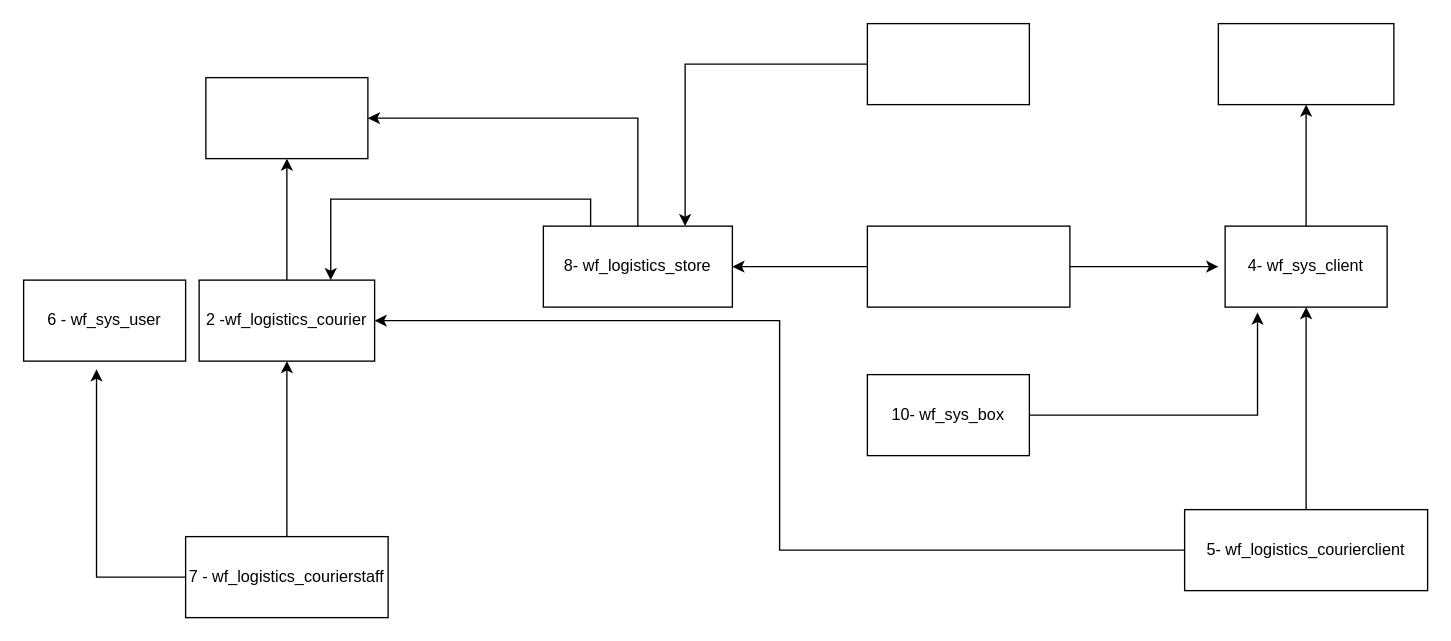
The diagram is 1451 pixels wide and 641 high, and some of its shapes have lost their labels. Each missing label, with the box of its shape:
1 - wf_sys_company: (205, 76, 368, 159)
11 - mk_time_to: (866, 22, 1029, 105)
3 -wf_logistics_location: (1217, 22, 1394, 105)
9 - wf_logistics_storeclient: (866, 225, 1070, 307)
